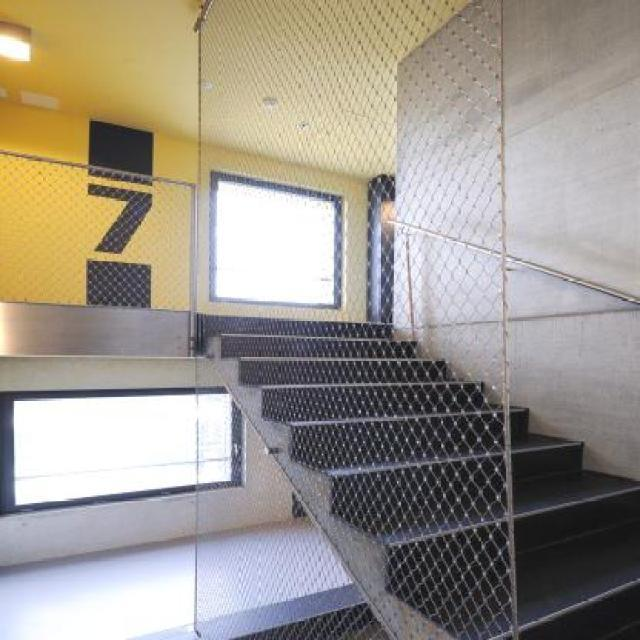stair: (190, 248, 639, 640)
